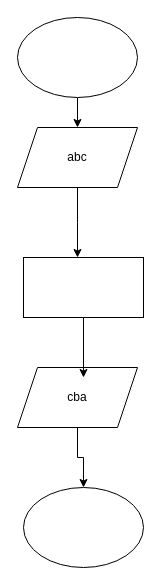
Image size: 161x585. Some labels were removed from this diagram. The centre of each missing label's shape, as x and y in pixels:
"begin" goes at [77,57].
"dao nguoc abc" goes at [83,287].
